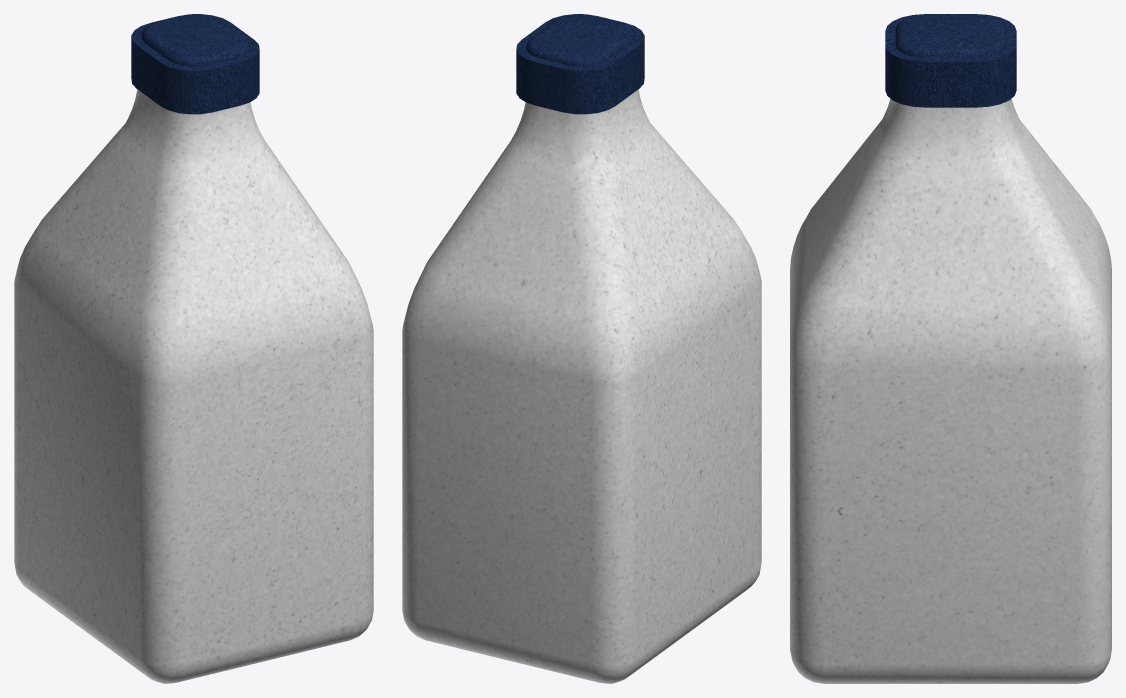
The model's file is plastic_container.fbx.
The picture shows the model from 3 angles, left to right: view 1: azimuth 30°, elevation 25°; view 2: azimuth 150°, elevation 25°; view 3: azimuth 270°, elevation 25°; orthographic projection. The views are drawn at different scales.
Parts seen in each view (by area): view 1: Cube, Cube.001; view 2: Cube, Cube.001; view 3: Cube, Cube.001.
Part boxes in pixels (box(x1,y1,x2,y2)): Cube: box(14, 89, 373, 683); Cube.001: box(131, 14, 259, 114); Cube: box(402, 89, 761, 683); Cube.001: box(516, 14, 644, 114); Cube: box(790, 99, 1111, 683); Cube.001: box(885, 14, 1016, 107).
Size of the model in its own units: 1.6 by 3.85 by 1.85.
2 materials, 2 textured.
